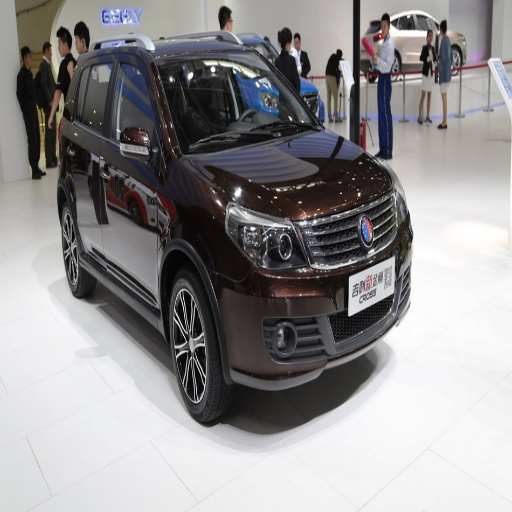front_bumper: (213, 226, 405, 390)
front_right_door: (102, 48, 163, 293)
front_right_light: (227, 204, 307, 275)
